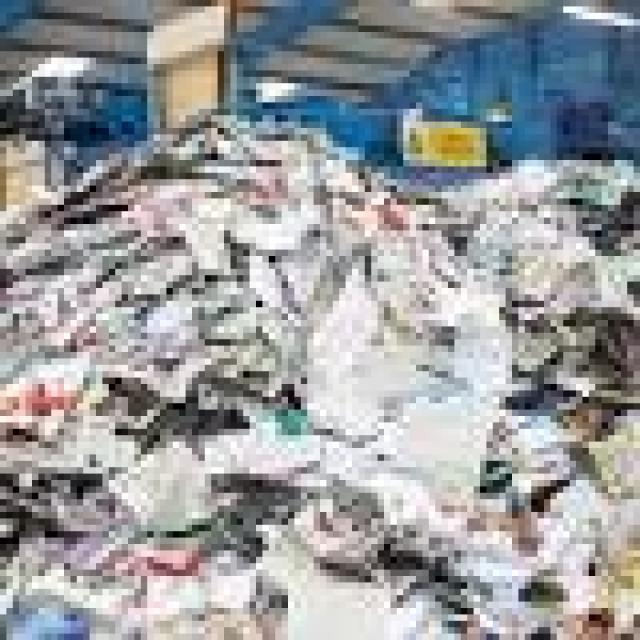Paper -Biodegradable-: (0, 113, 640, 640)
